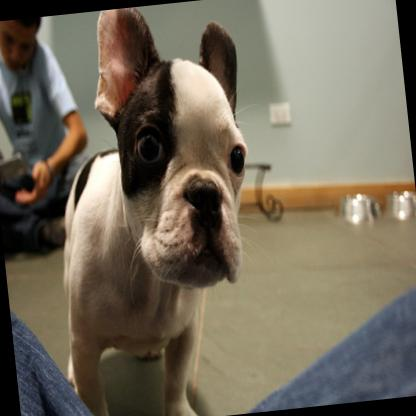French_bulldog: (25, 0, 287, 416)
